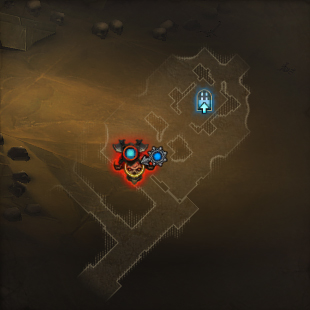Guardian: (112, 152, 157, 183)
